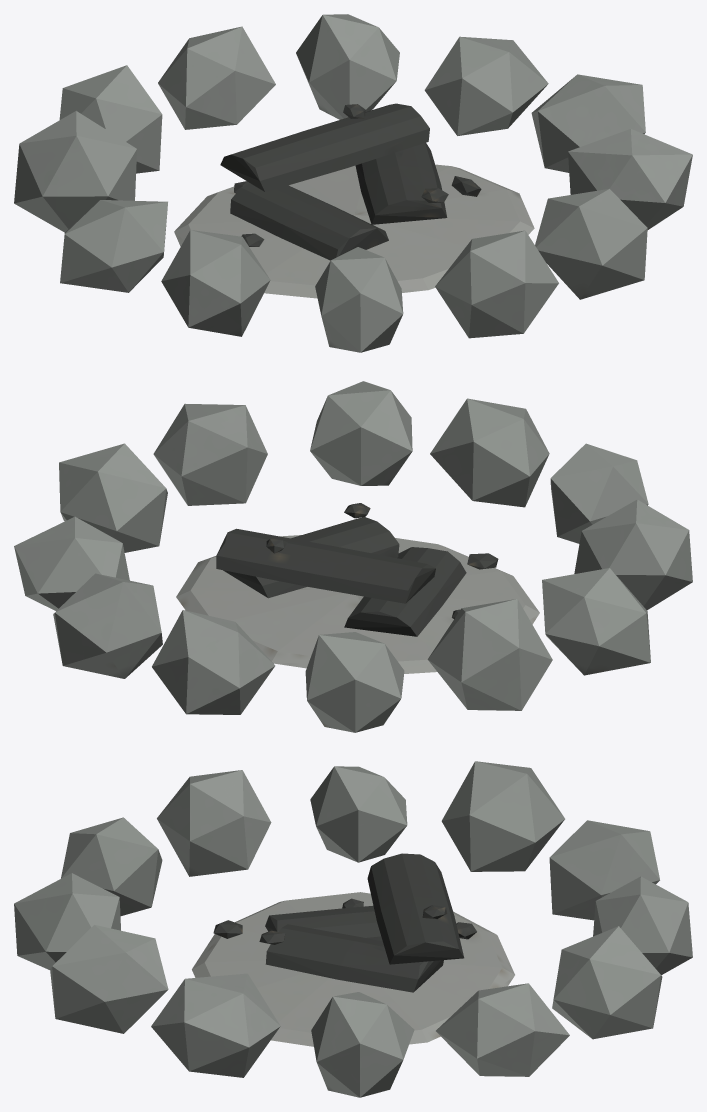
File: forest_campfire_ring_ash.glb
The picture shows the model from 3 angles, top to bottom: view 1: azimuth 30°, elevation 25°; view 2: azimuth 150°, elevation 25°; view 3: azimuth 270°, elevation 25°; orthographic projection.
Visible parts, largest first — view 1: CampfireRingAsh; view 2: CampfireRingAsh; view 3: CampfireRingAsh.
Part boxes in pixels (x1,y1,x2,y2): CampfireRingAsh: [14, 14, 692, 352]; CampfireRingAsh: [14, 381, 692, 732]; CampfireRingAsh: [14, 761, 692, 1097].
Size of the model in its own units: 1.3 by 0.22 by 1.3.
Materials: 1 (1 with a texture image).
